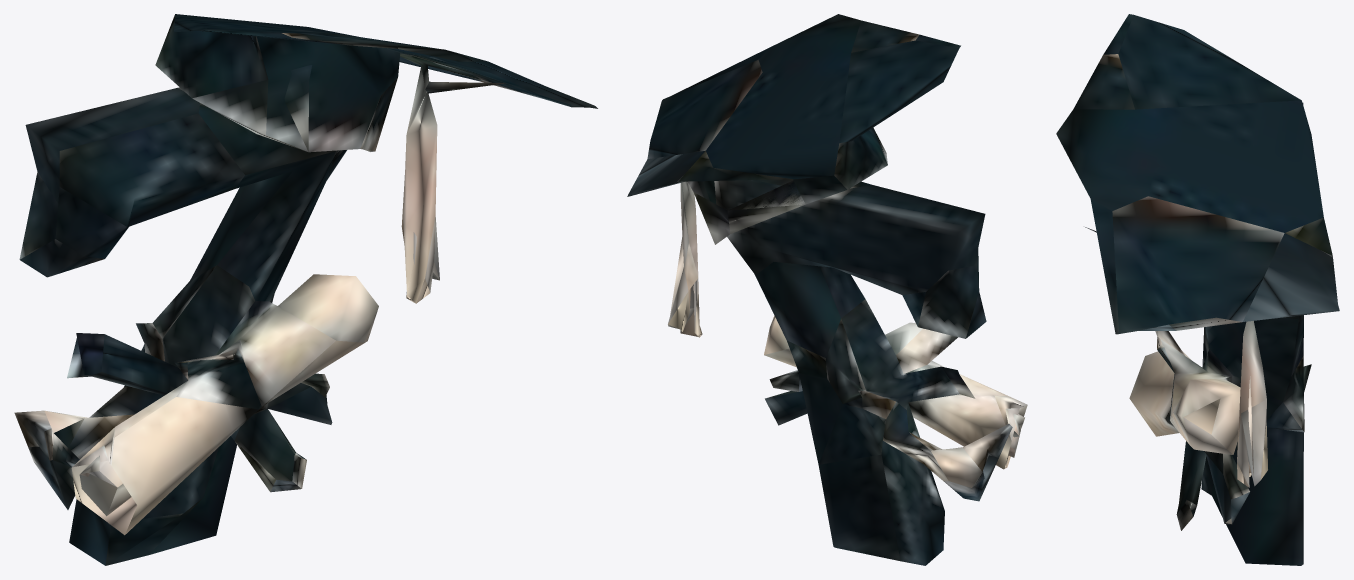
3 renders of one model, left to right at view 1: azimuth 30°, elevation 25°; view 2: azimuth 150°, elevation 25°; view 3: azimuth 270°, elevation 25°, orthographic. The views are drawn at different scales.
Parts seen in each view (by area): view 1: Graduation-7; view 2: Graduation-7; view 3: Graduation-7.
Part boxes in pixels (left/top/right/bottom): Graduation-7: left=14, top=14, right=597, bottom=565; Graduation-7: left=627, top=14, right=1027, bottom=565; Graduation-7: left=1056, top=14, right=1339, bottom=565.
Bounding box in the file's own units: 0.255 × 0.2819 × 0.1384.
1 material, 1 textured.
